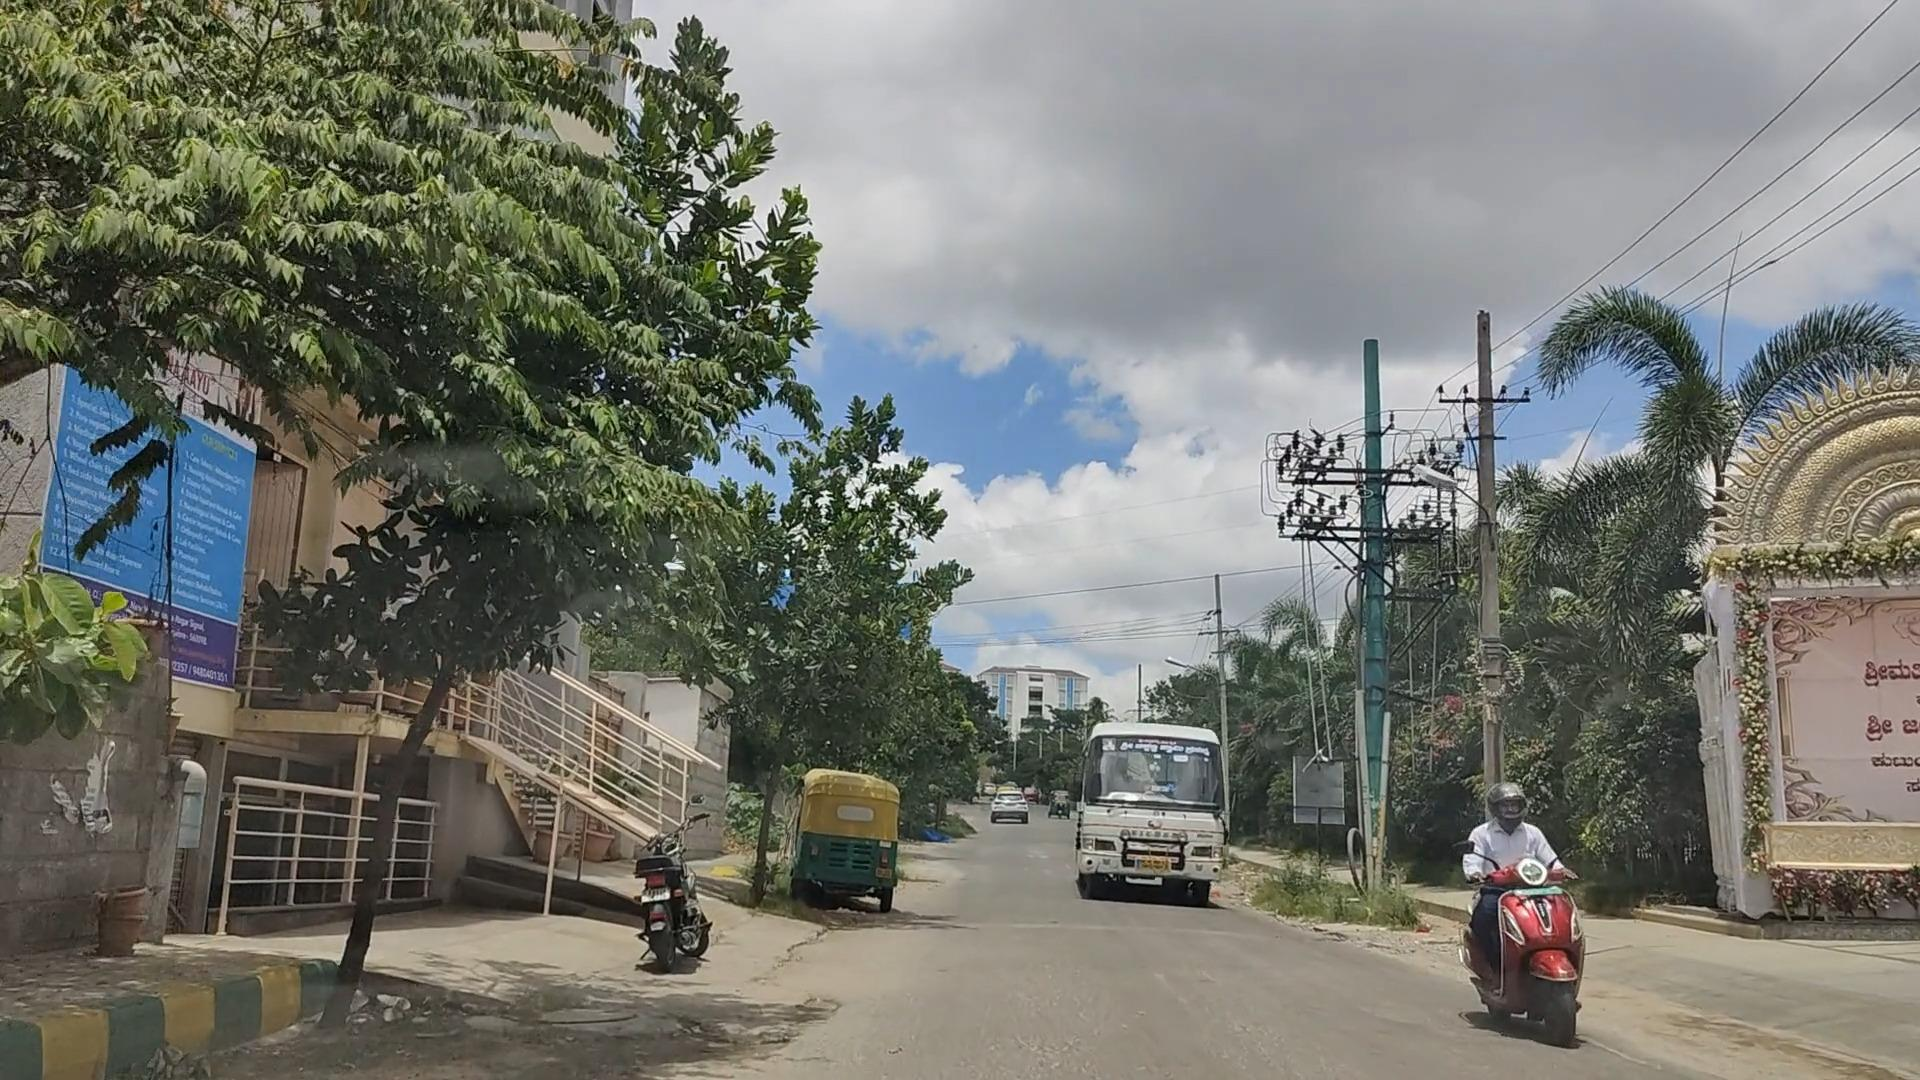HMV: (1060, 704, 1234, 923)
RoadDamages: (505, 971, 758, 1080)
